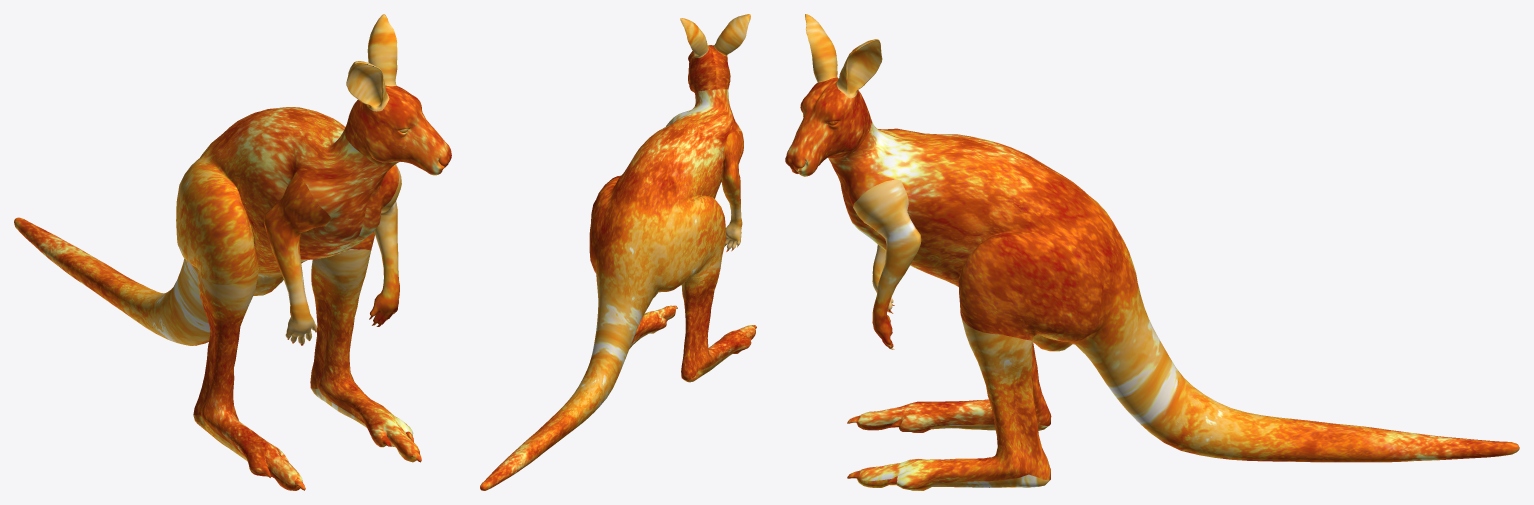
The model's file is kangaroo.obj.
3 views of the same model, side by side, from view 1: azimuth 30°, elevation 25°; view 2: azimuth 150°, elevation 25°; view 3: azimuth 270°, elevation 25° (orthographic). The views are drawn at different scales.
Visible parts, largest first — view 1: obj1; view 2: obj1; view 3: obj1.
Part boxes in pixels (bbox=[...]): obj1: bbox=[14, 14, 451, 490]; obj1: bbox=[480, 14, 756, 490]; obj1: bbox=[785, 14, 1519, 490].
Size of the model in its own units: 0.6666 by 1.74 by 2.64.
